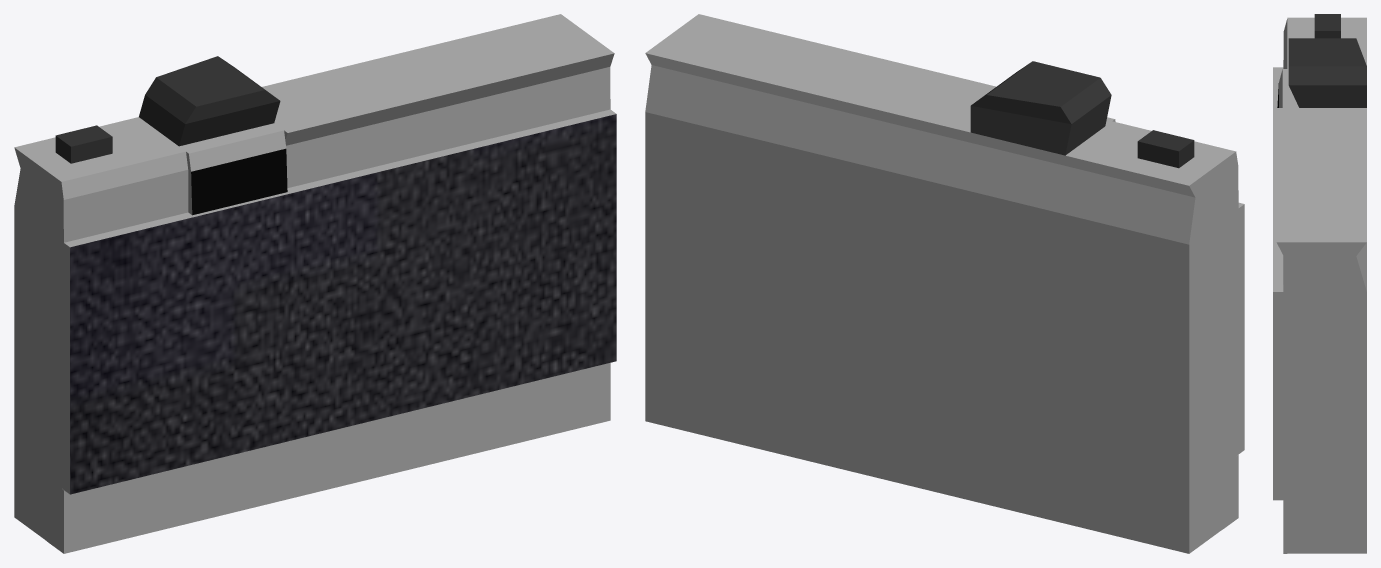
Rendered from kamera.glb.
3 renders of one model, left to right at view 1: azimuth 30°, elevation 25°; view 2: azimuth 150°, elevation 25°; view 3: azimuth 270°, elevation 25°, orthographic. The views are drawn at different scales.
Parts seen in each view (by area): view 1: Cube.002; view 2: Cube.002; view 3: Cube.002.
Boxes of the visible parts, box(x1,y1,x2,y2) form: Cube.002: box(14, 14, 616, 553); Cube.002: box(645, 14, 1244, 553); Cube.002: box(1273, 14, 1366, 553).
Size of the model in its own units: 0.6833 by 0.492 by 0.1208.
Materials: 4 (1 with a texture image).
